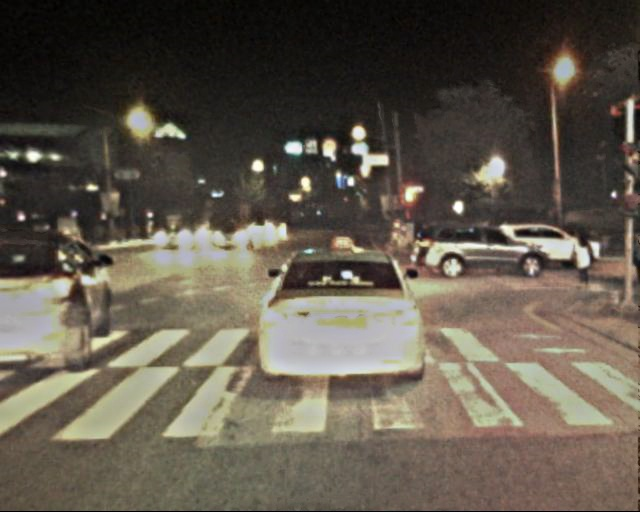person: (568, 230, 596, 298), (627, 228, 640, 287)
